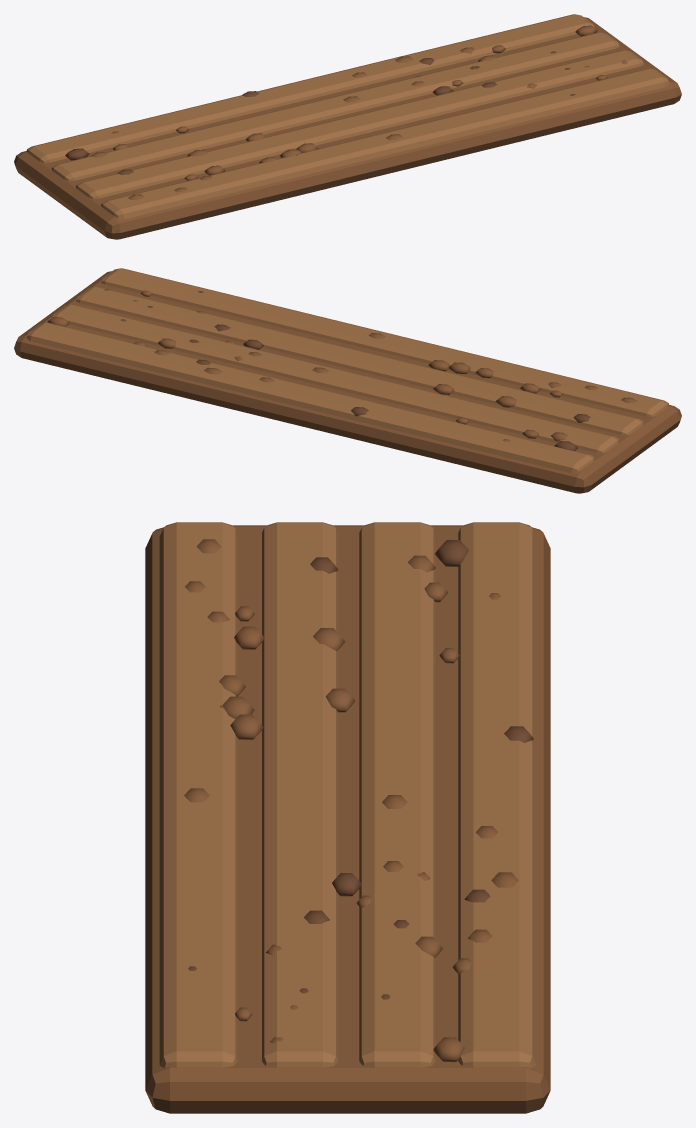
Rendered from Field_Soil_Bed.fbx.
The picture shows the model from 3 angles, top to bottom: view 1: azimuth 30°, elevation 25°; view 2: azimuth 150°, elevation 25°; view 3: azimuth 270°, elevation 25°; orthographic projection. The views are drawn at different scales.
Parts seen in each view (by area): view 1: Body; view 2: Body; view 3: Body.
Part boxes in pixels (bbox=[...]): Body: bbox=[14, 14, 681, 239]; Body: bbox=[14, 268, 681, 493]; Body: bbox=[145, 522, 550, 1113].
Bounding box in the file's own units: 4.17 × 0.2046 × 1.27.
